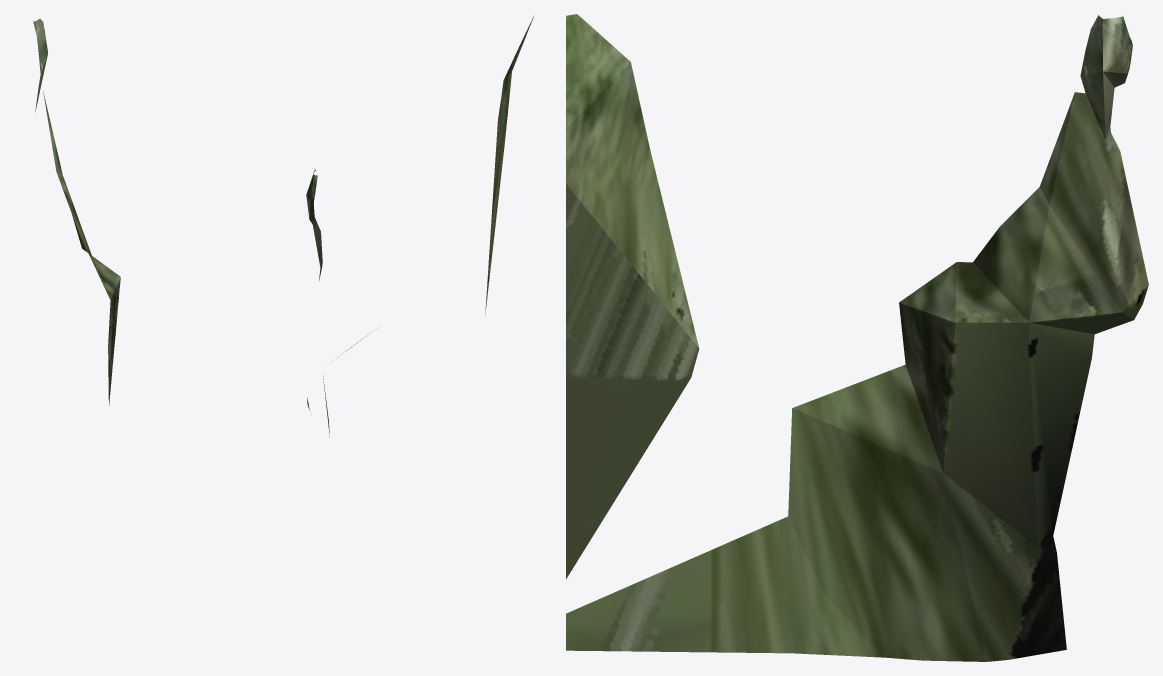
3 renders of one model, left to right at view 1: azimuth 30°, elevation 25°; view 2: azimuth 150°, elevation 25°; view 3: azimuth 270°, elevation 25°, orthographic. The views are drawn at different scales.
Bounding box in the file's own units: 0.2444 × 2.95 × 2.45.
1 material, 1 textured.
